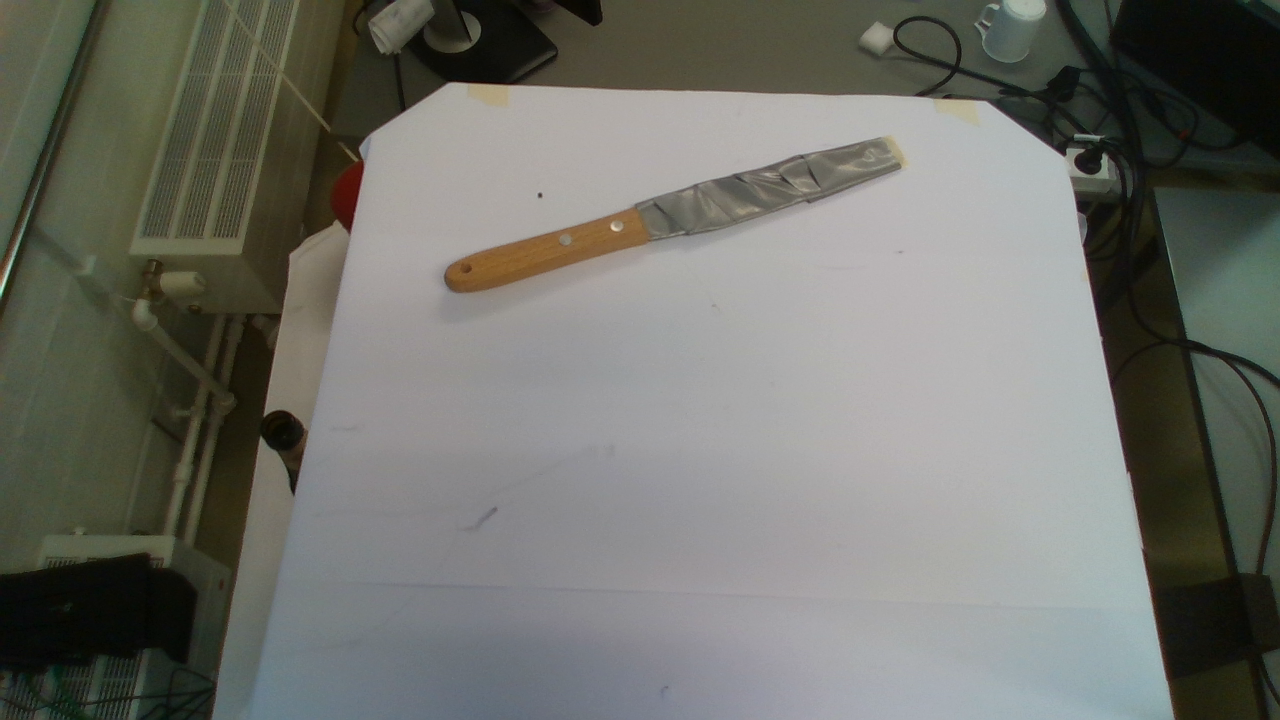knife: (440, 133, 909, 298)
